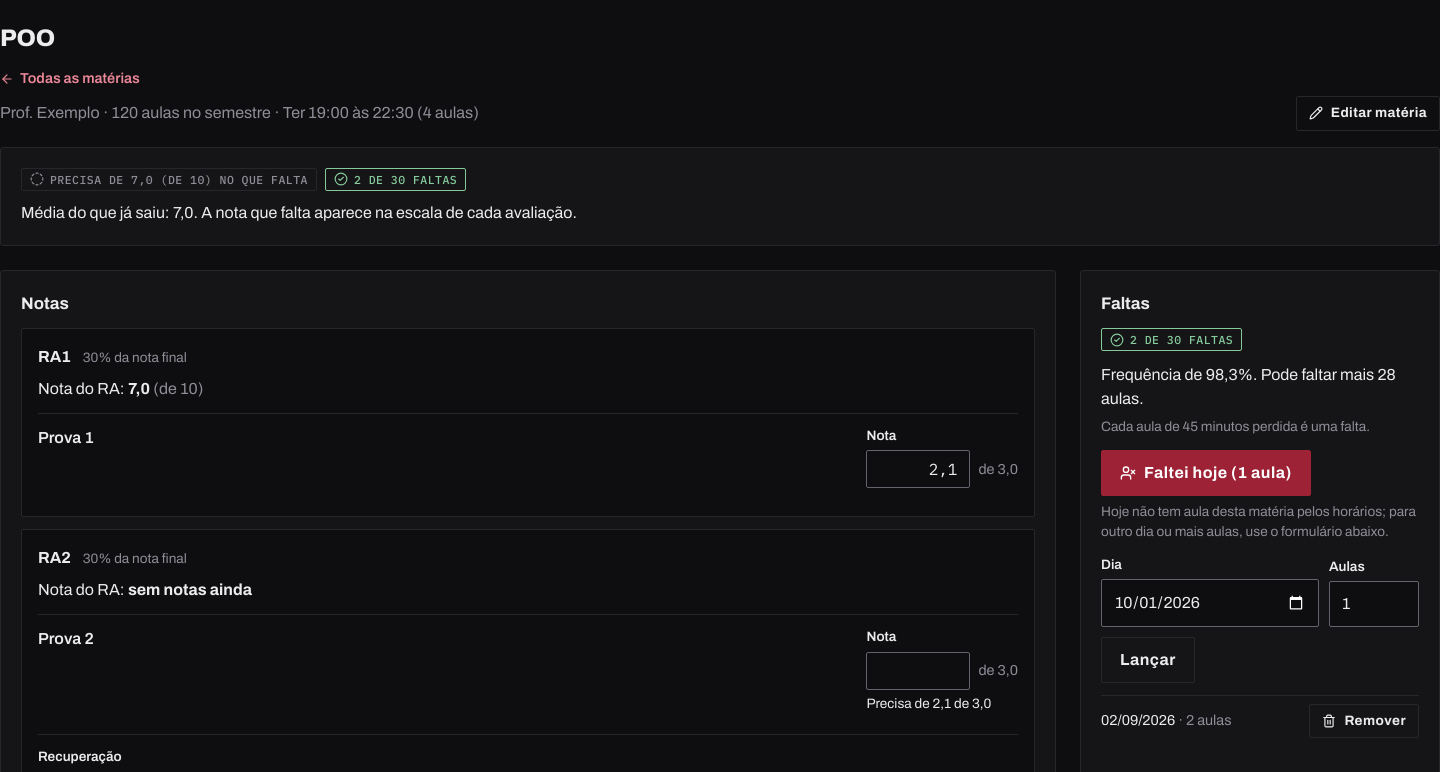
Test: TelaMateria › salva ao sair do campo, e apagar a nota volta para "sem nota"
Clear the field named "Nota de Prova 1": (918, 470) [866,450,970,488]
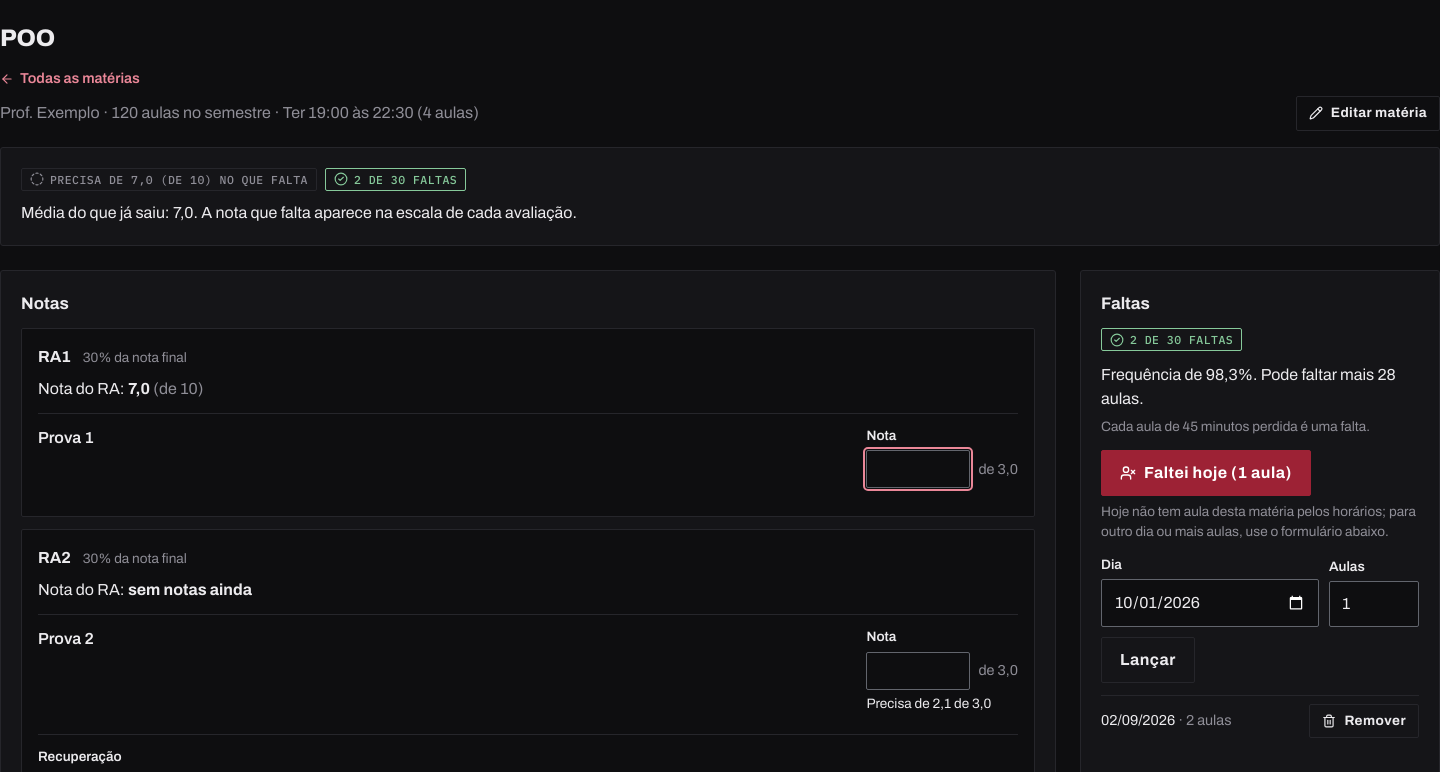
Press Tab
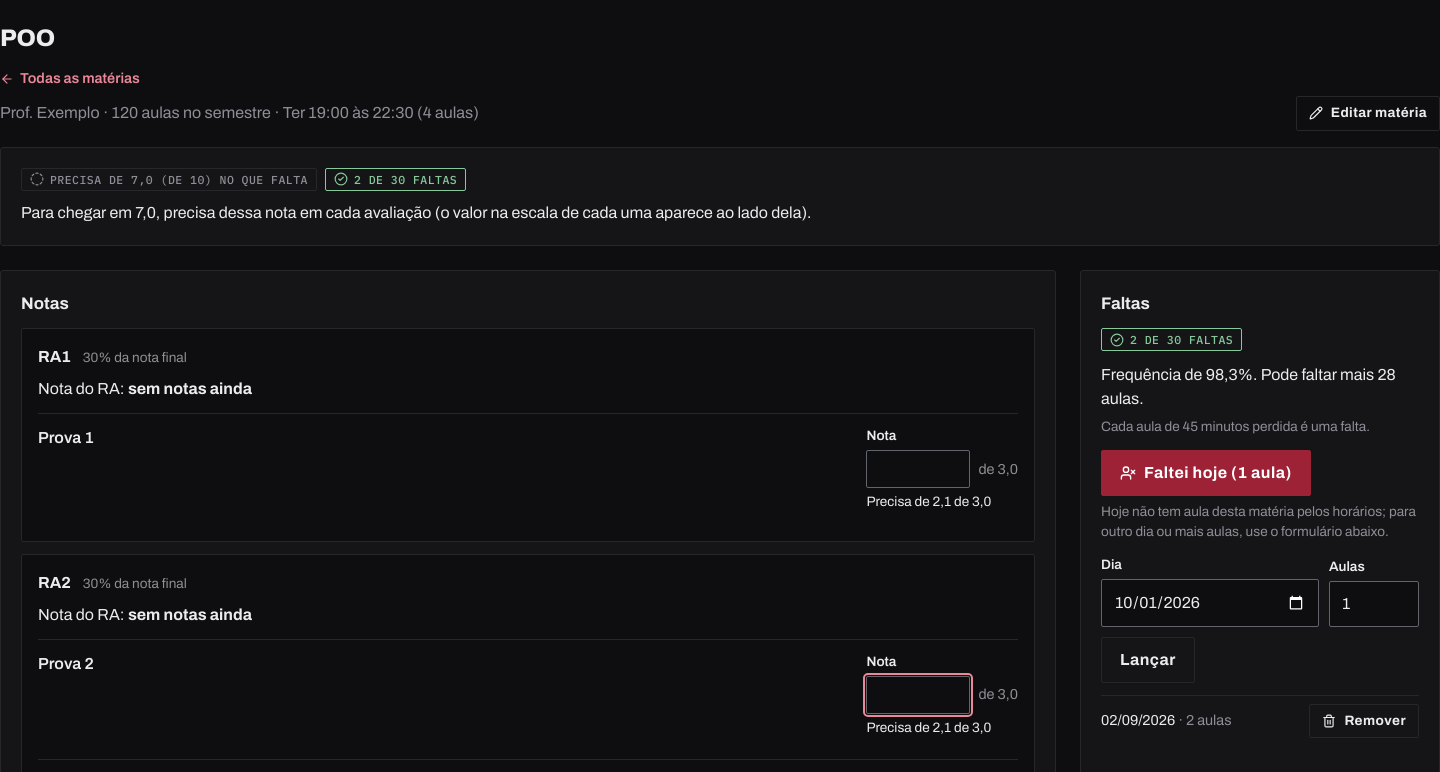
Result: the 1st text "sem notas ainda" is shown at [128,380,252,397]
